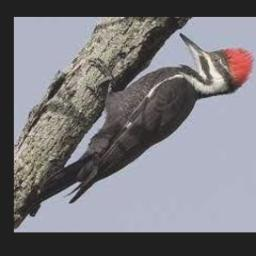Woodpecker: (16, 33, 254, 216)
